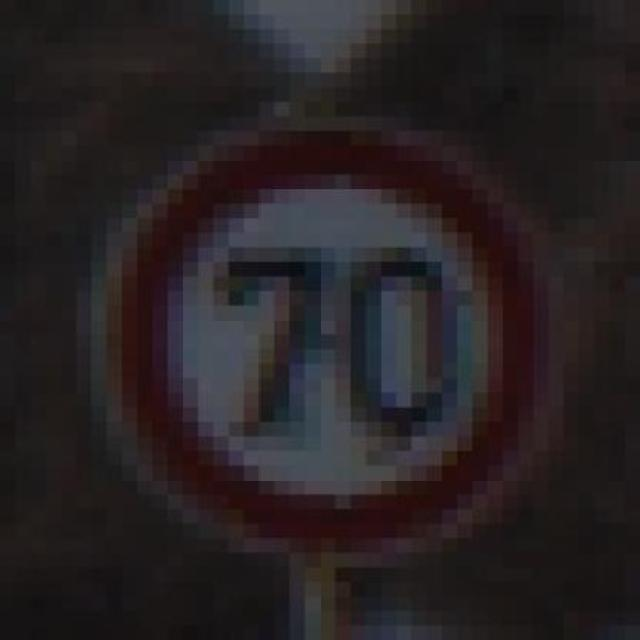forb_speed_over_70: (103, 127, 548, 556)
